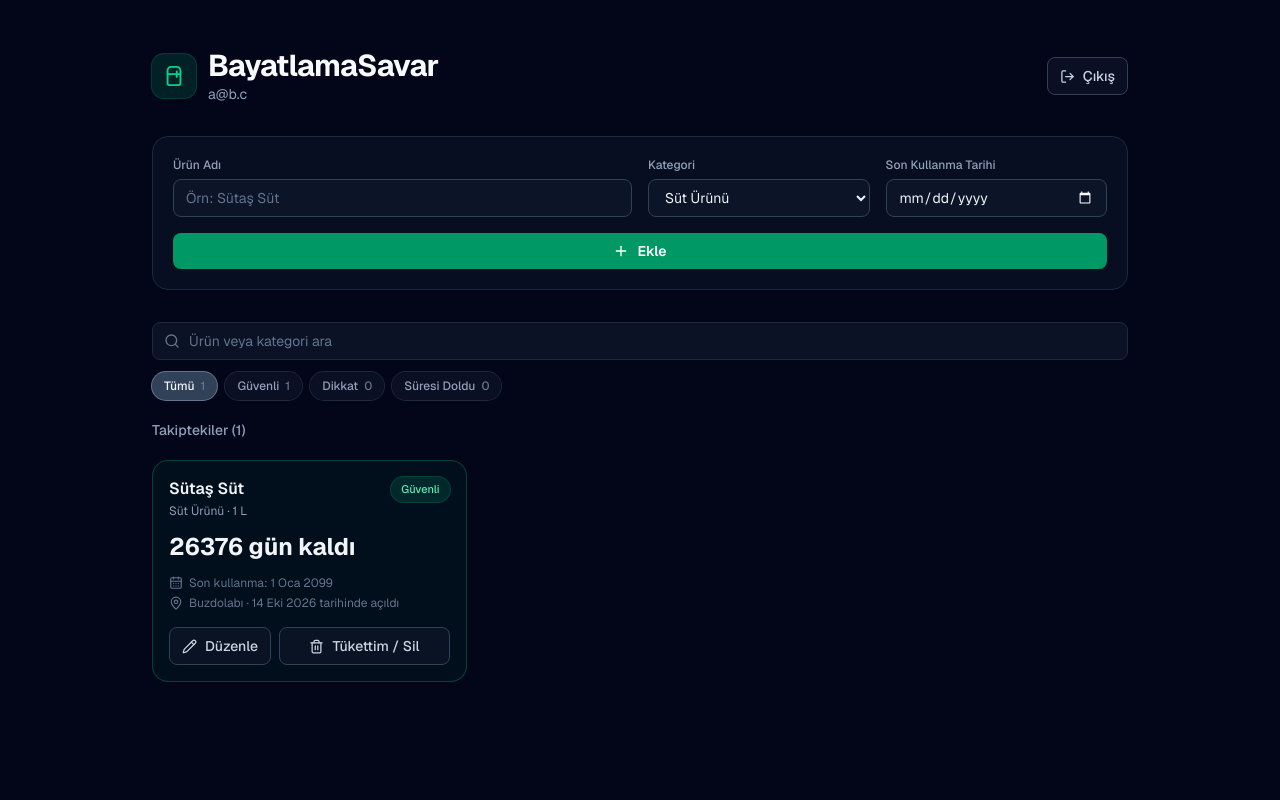
Ana sayfa — bütünleşme › tüket akışı: ürün listeden çıkar, bildirim görünür
The width and height of the screenshot is (1280, 800).
Check: the heading "Sütaş Süt" is shown, box [169,477,247,501]
Click the button "Tükettim / Sil" at (364, 646), box [279,627,450,665]
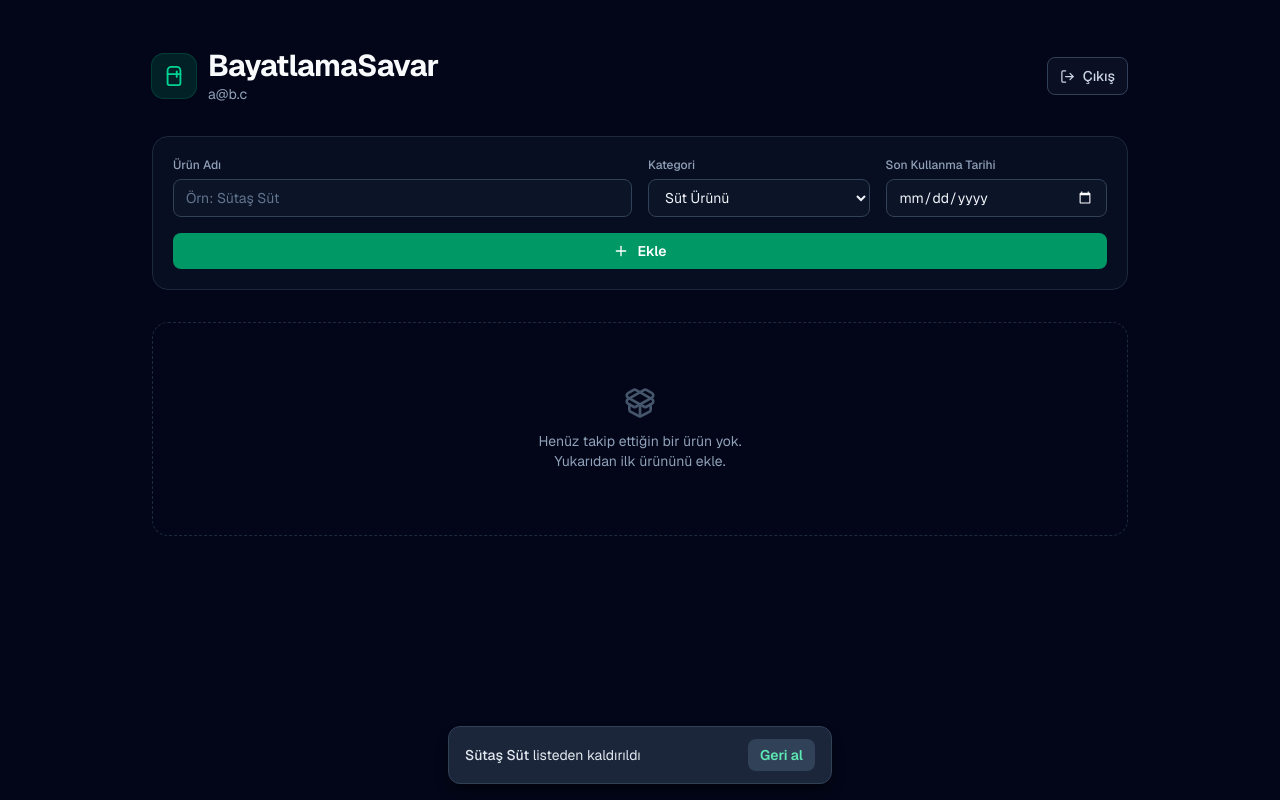
Check: the button "Geri al" is shown, box [748,739,815,771]
